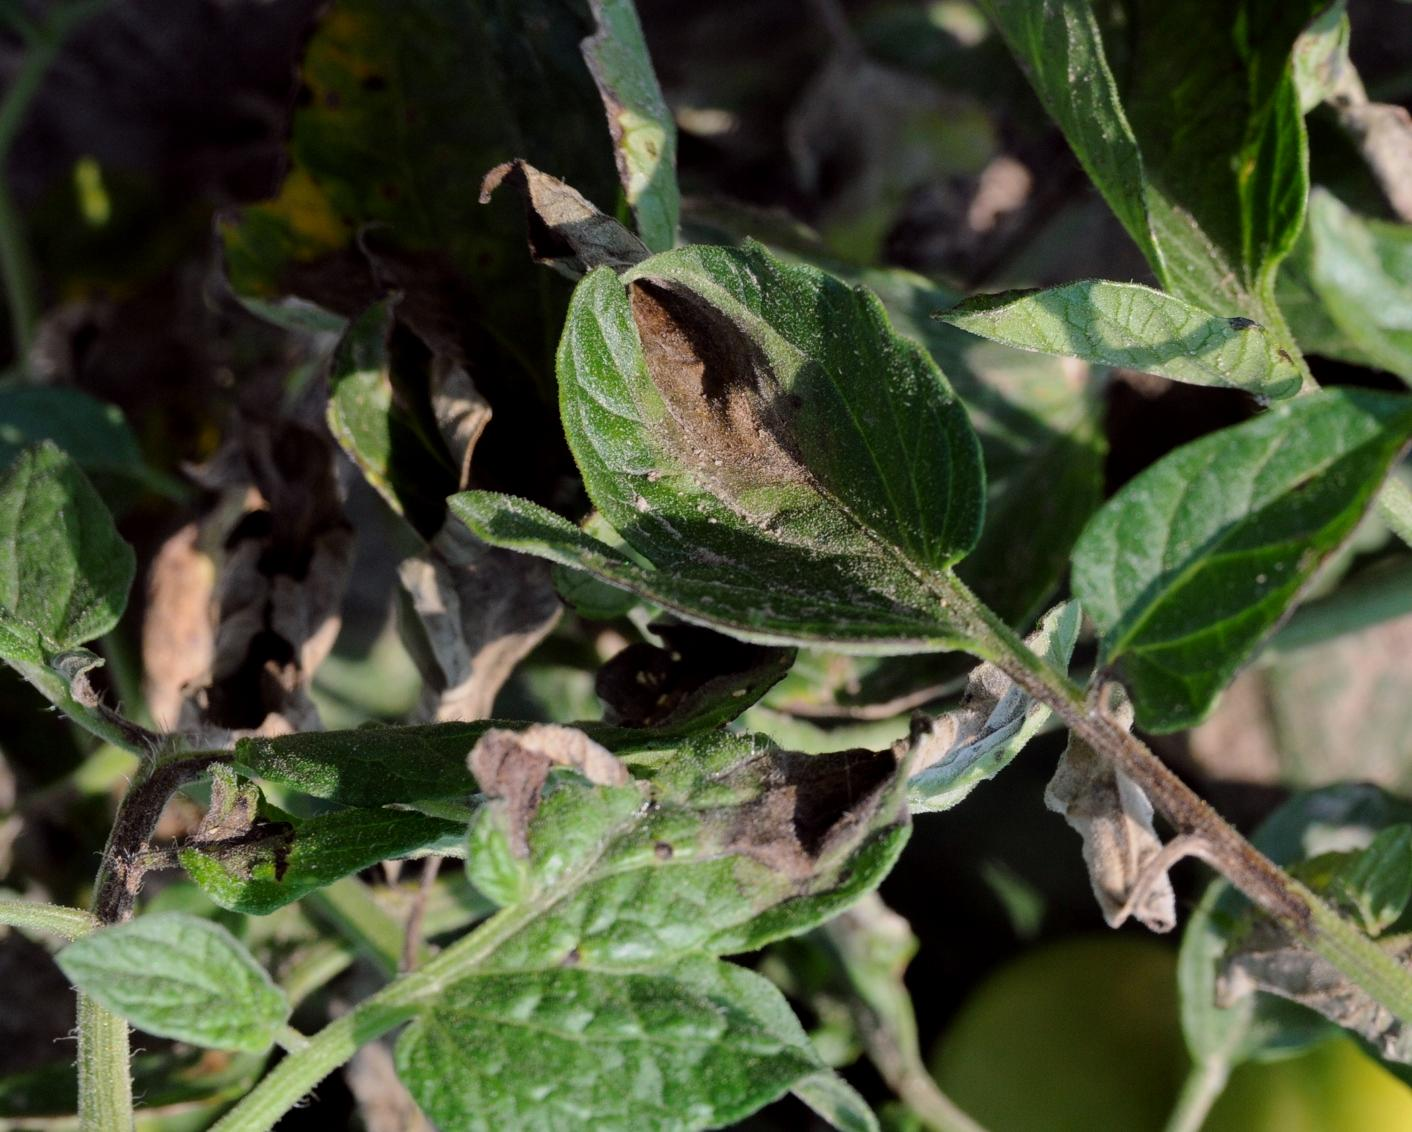Tomato leaf late blight: (519, 188, 995, 661), (401, 689, 899, 1042)
